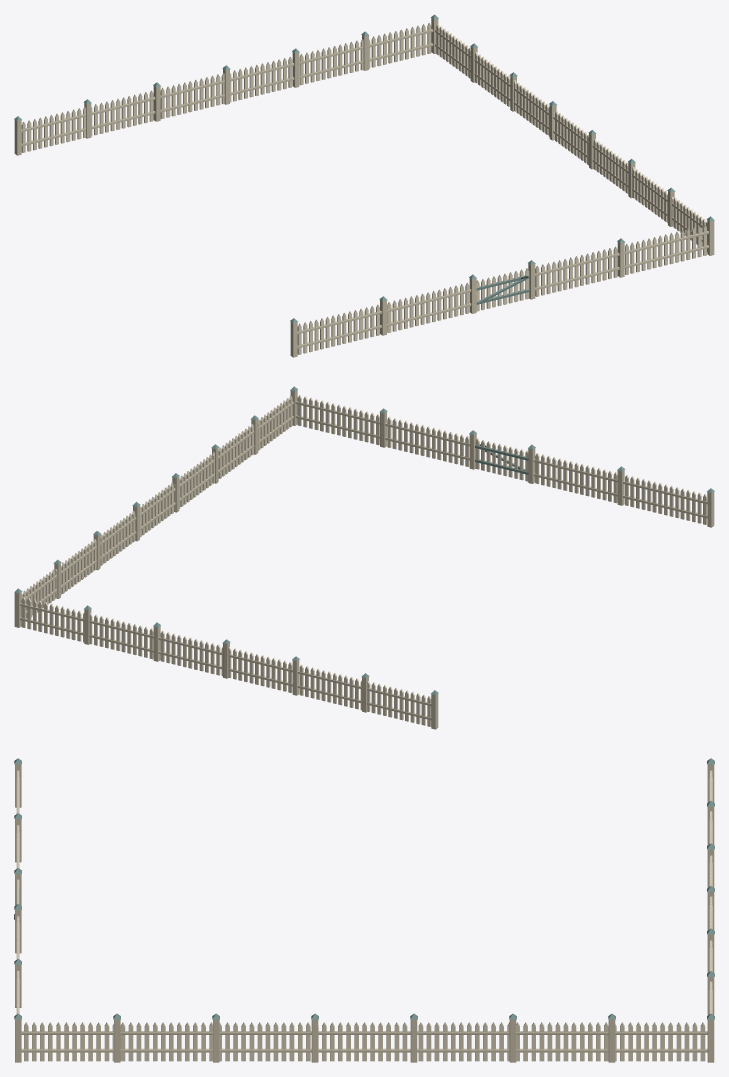
The model's file is SM_MiaHouse_Fence_SharedBoundary.fbx.
3 renders of one model, top to bottom at view 1: azimuth 30°, elevation 25°; view 2: azimuth 150°, elevation 25°; view 3: azimuth 270°, elevation 25°, orthographic. The views are drawn at different scales.
Visible parts, largest first — view 1: EXPORT_BackBoundary_Rail.001, EXPORT_BackBoundary_Rail, EXPORT_RightBoundary_Rail.001, EXPORT_RightBoundary_Rail, EXPORT_FrontFenceLeft_Rail, EXPORT_FrontFenceRight_Rail, EXPORT_FrontFenceRight_Rail.001, EXPORT_FrontFenceLeft_Rail.001; view 2: EXPORT_BackBoundary_Rail.001, EXPORT_BackBoundary_Rail, EXPORT_RightBoundary_Rail.001, EXPORT_RightBoundary_Rail, EXPORT_FrontFenceLeft_Rail.001, EXPORT_FrontFenceRight_Rail, EXPORT_FrontFenceRight_Rail.001, EXPORT_FrontFenceLeft_Rail; view 3: EXPORT_RightBoundary_Rail, EXPORT_RightBoundary_Rail.001.
Part boxes in pixels (<box>): EXPORT_BackBoundary_Rail.001: <box>21,29,433,132</box>; EXPORT_BackBoundary_Rail: <box>21,43,433,146</box>; EXPORT_RightBoundary_Rail.001: <box>435,30,707,230</box>; EXPORT_RightBoundary_Rail: <box>435,44,707,244</box>; EXPORT_FrontFenceLeft_Rail: <box>297,303,471,348</box>; EXPORT_FrontFenceRight_Rail: <box>535,245,708,290</box>; EXPORT_FrontFenceRight_Rail.001: <box>535,231,708,276</box>; EXPORT_FrontFenceLeft_Rail.001: <box>297,289,471,333</box>; EXPORT_BackBoundary_Rail.001: <box>20,603,431,705</box>; EXPORT_BackBoundary_Rail: <box>20,617,431,720</box>; EXPORT_RightBoundary_Rail.001: <box>25,402,293,599</box>; EXPORT_RightBoundary_Rail: <box>25,416,293,614</box>; EXPORT_FrontFenceLeft_Rail.001: <box>533,459,707,504</box>; EXPORT_FrontFenceRight_Rail: <box>295,415,469,460</box>; EXPORT_FrontFenceRight_Rail.001: <box>295,401,469,446</box>; EXPORT_FrontFenceLeft_Rail: <box>533,473,707,518</box>; EXPORT_RightBoundary_Rail: <box>21,1048,707,1052</box>; EXPORT_RightBoundary_Rail.001: <box>21,1031,707,1034</box>.
Size of the model in its own units: 1378 by 1578 by 119.
